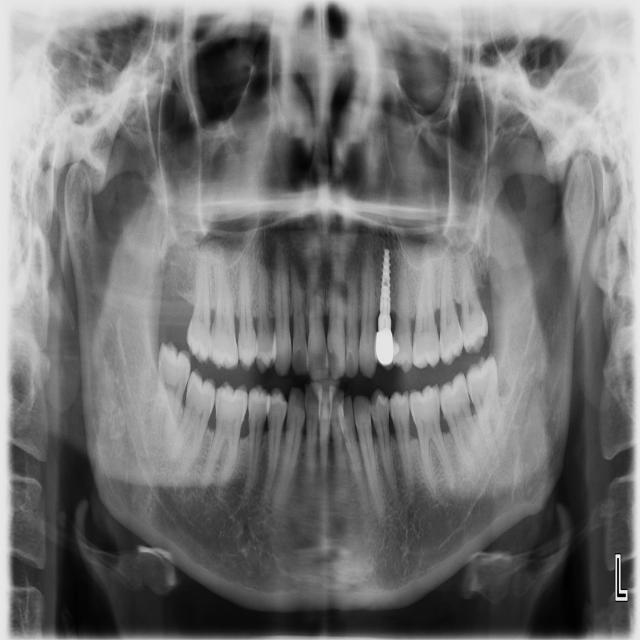mandibula: (65, 152, 597, 615)
